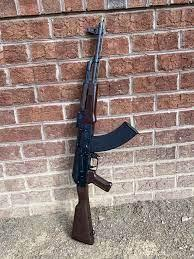larga: (70, 23, 139, 245)
